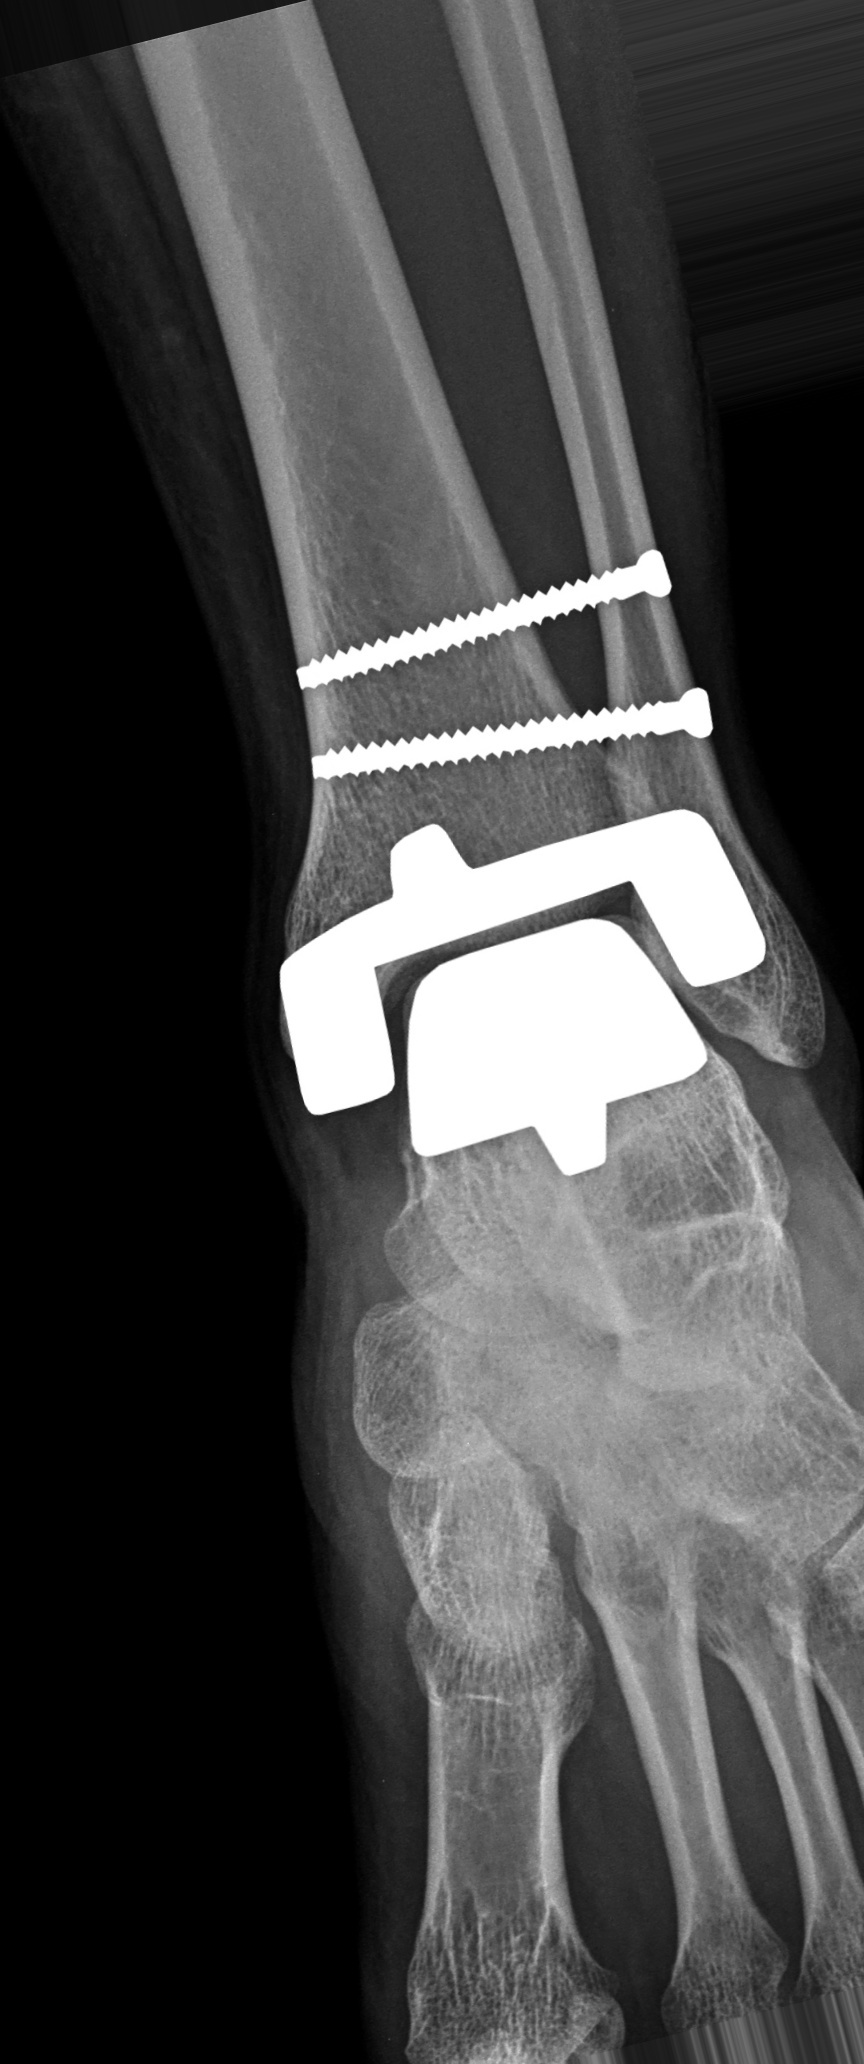Ankle - Agility - DePuy: (233, 548, 780, 1193)
